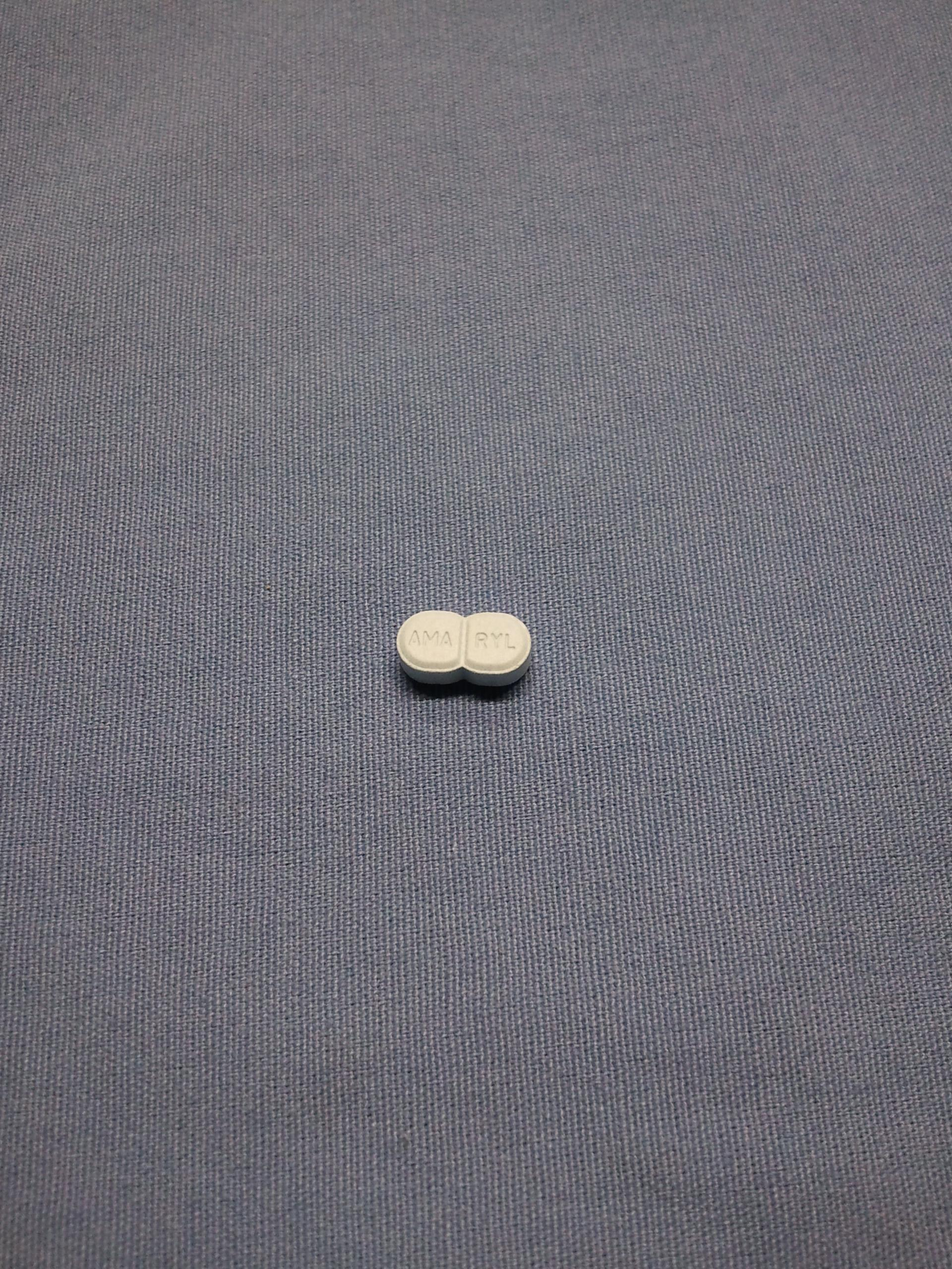Pill: (369, 582, 550, 715)
